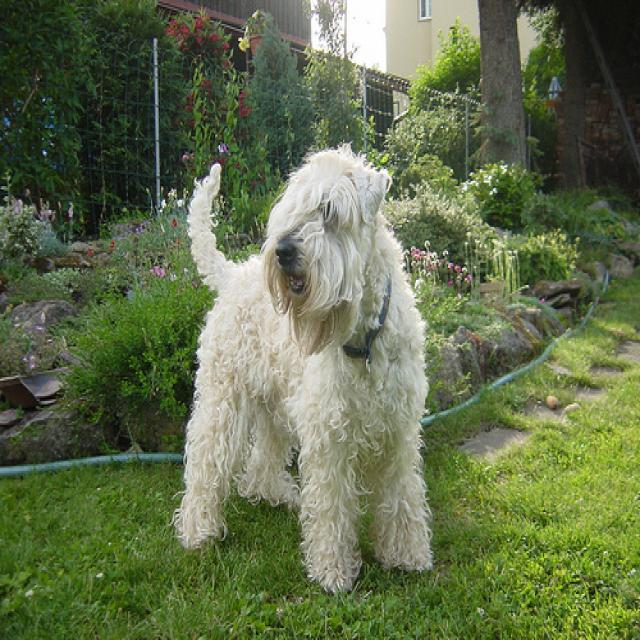dog-wheaten_terrier: (168, 137, 442, 597)
